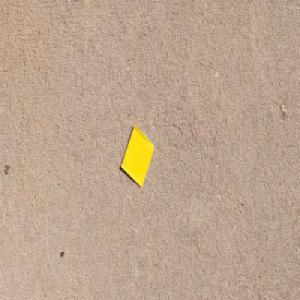PlasticPart: (120, 124, 154, 188)
